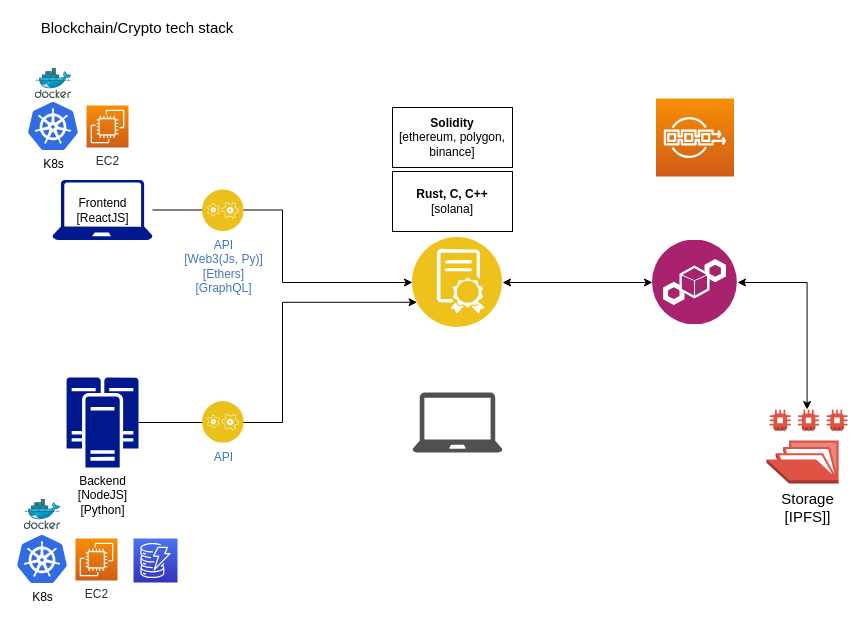
Image size: 865x621. Some labels were removed from this diagram. The centre of each missing label's shape, as x and y in pixels:
[Amazon managed blockchain] Private blockchain: pixel 694 137
Blockchain [Ethereum]: pixel 694 282
DynamoDB: pixel 155 560
Local development [Hardhat (JS)] [Brownie (Python)]: pixel 457 422
Smart Contract: pixel 457 282
